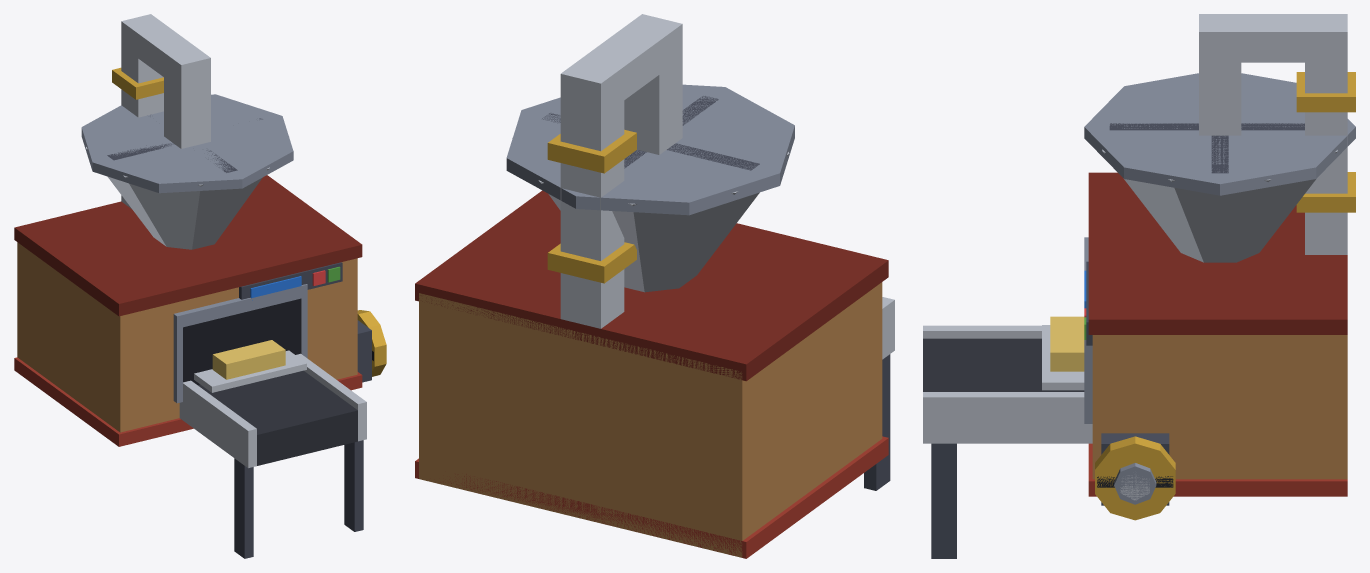
File: feed-intake.glb
The picture shows the model from 3 angles, left to right: view 1: azimuth 30°, elevation 25°; view 2: azimuth 150°, elevation 25°; view 3: azimuth 270°, elevation 25°; orthographic projection. The views are drawn at different scales.
Visible parts, largest first — view 1: feed-intake, spin-x, spin-up; view 2: feed-intake, spin-up; view 3: feed-intake, spin-x, spin-up.
Part boxes in pixels (x1,y1,x2,y2): feed-intake: [14, 14, 371, 558]; spin-x: [357, 310, 386, 376]; spin-up: [107, 115, 262, 172]; feed-intake: [415, 14, 894, 558]; spin-up: [542, 96, 759, 170]; feed-intake: [923, 14, 1355, 558]; spin-x: [1095, 436, 1175, 520]; spin-up: [1109, 123, 1304, 173].
Size of the model in its own units: 0.93 by 1.3 by 1.02.
Materials: 3 (3 with a texture image).
